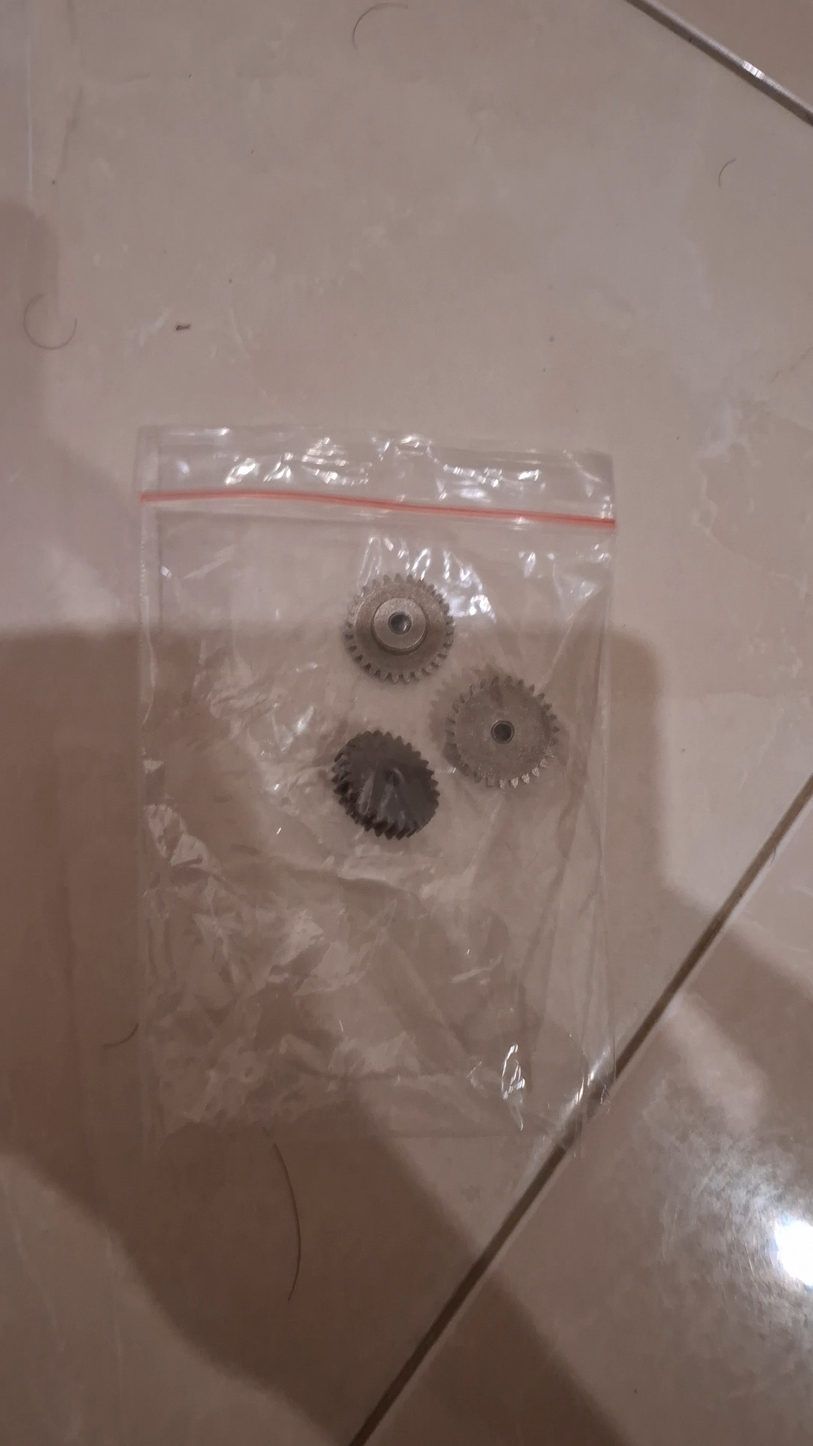spur gear: (441, 673, 562, 789), (329, 729, 443, 839), (341, 575, 456, 683)
